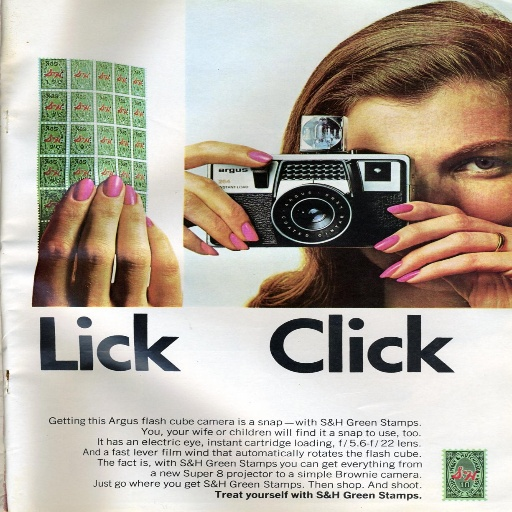hand: (32, 162, 191, 305), (374, 199, 511, 309), (183, 138, 273, 255)
